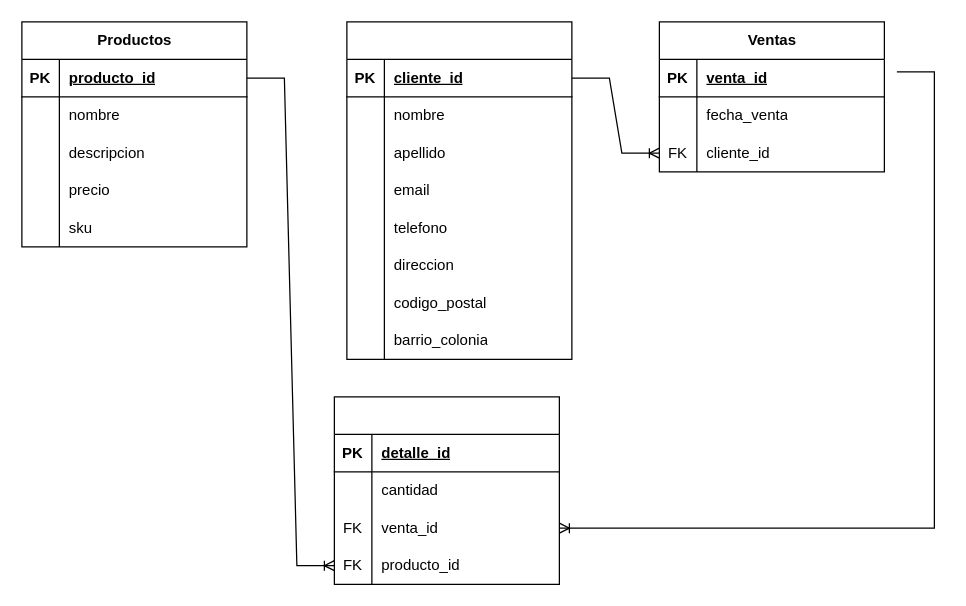
The diagram is 966 pixels wide and 606 high, and some of its shapes have lost their labels. Here are the shapes that lost their labels. From the top down, the box of each, then its label:
(346, 21, 572, 359): Clientes
(333, 396, 559, 584): DetallesVenta
